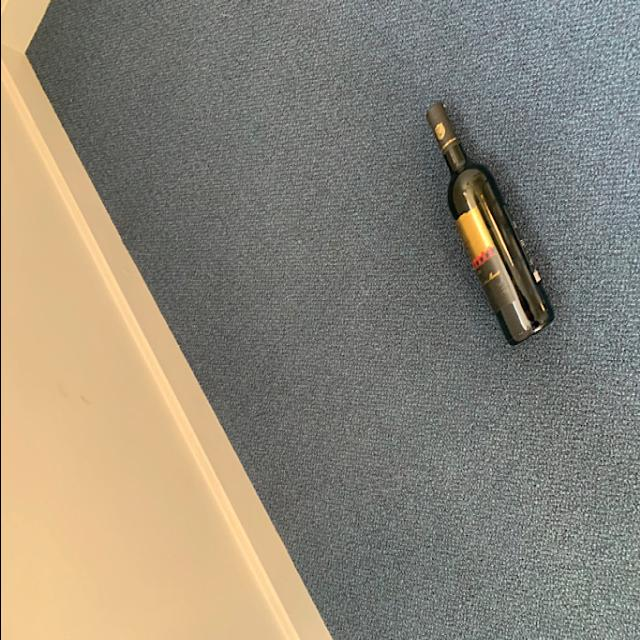Glass Bottle: (416, 96, 558, 352)
